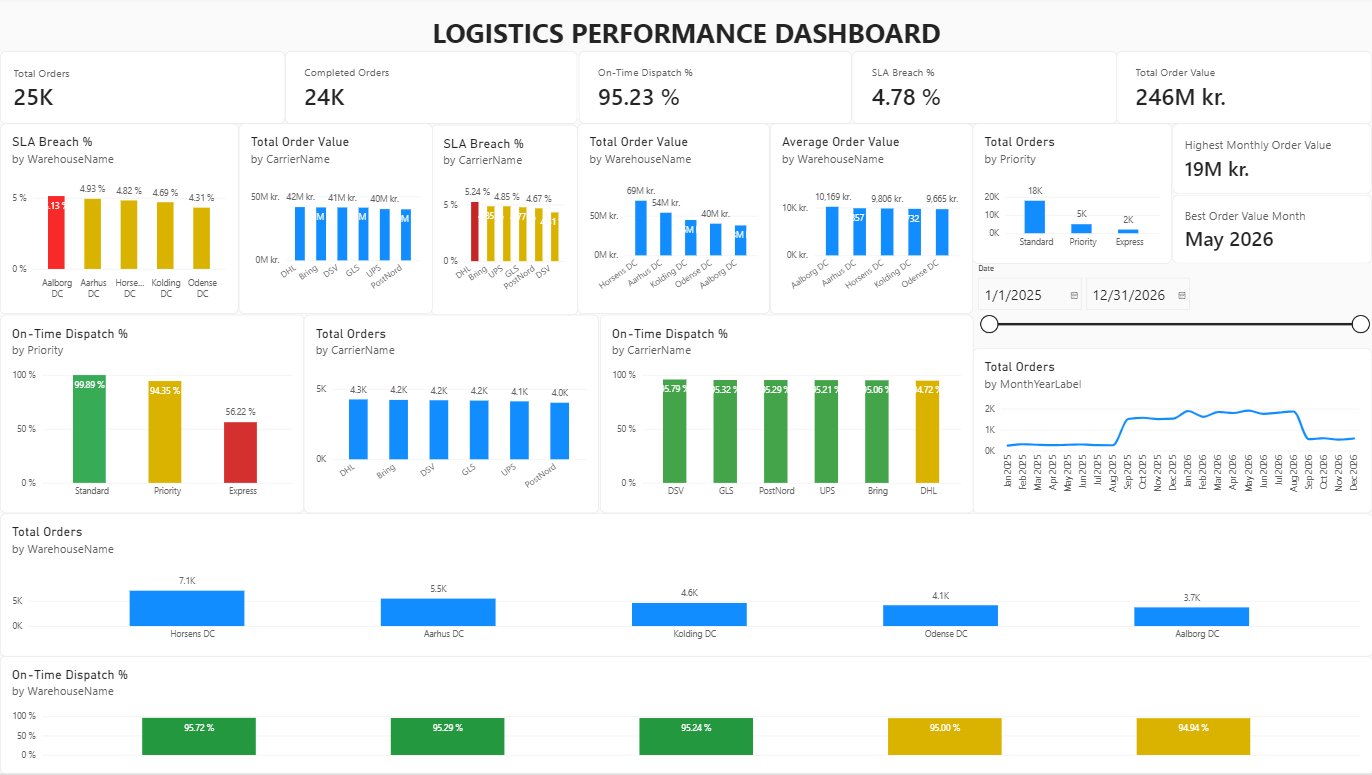

The page's visual inventory and layout, read from the dashboard file:
{"tool":"powerbi","page":{"name":"Overview","canvas":[1920,1080],"ordinal":0},"visuals":[{"type":"cardVisual","fields":{"Data":["All Measures.Total Orders"]},"box":[0,70,399.3,102.9],"z":0},{"type":"cardVisual","fields":{"Data":["All Measures.Total Order Value"]},"box":[1562.3,70,358.1,102.9],"z":1000},{"type":"cardVisual","fields":{"Data":["All Measures.Completed Orders"]},"box":[399.3,70,409.6,102.9],"z":2000},{"type":"cardVisual","fields":{"Data":["All Measures.SLA Breach %"]},"box":[1191.8,70,370.5,102.9],"z":3000},{"type":"cardVisual","fields":{"Data":["All Measures.On-Time Dispatch %"]},"box":[808.9,70,382.8,102.9],"z":4000},{"type":"textbox","box":[0,18.5,1920.4,51.5],"z":5000},{"type":"lineChart","fields":{"Category":["DimDate_New.MonthYearLabel"],"Y":["All Measures.Total Orders"]},"box":[1361.3,486,559.1,230.1],"z":6000},{"type":"slicer","fields":{"Values":["DimDate_New.Date"]},"box":[1361.3,367.7,559.1,118.3],"z":7000},{"type":"clusteredColumnChart","fields":{"Category":["DimWarehouse.WarehouseName"],"Y":["All Measures.Total Orders"]},"box":[0,716.3,1920.4,199.7],"z":8000},{"type":"clusteredColumnChart","fields":{"Category":["DimWarehouse.WarehouseName"],"Y":["All Measures.On-Time Dispatch %"]},"box":[0,916,1920.4,164.7],"z":9000},{"type":"clusteredColumnChart","fields":{"Category":["FactOrders.Priority"],"Y":["All Measures.Total Orders"]},"box":[1361.3,172,279.6,195.7],"z":10000},{"type":"clusteredColumnChart","fields":{"Category":["FactOrders.Priority"],"Y":["All Measures.On-Time Dispatch %"]},"box":[0,438.7,425.8,277.4],"z":11000},{"type":"clusteredColumnChart","fields":{"Category":["DimCarrier.CarrierName"],"Y":["All Measures.Total Orders"]},"box":[425.8,438.7,412.9,277.4],"z":12000},{"type":"clusteredColumnChart","fields":{"Category":["DimCarrier.CarrierName"],"Y":["All Measures.On-Time Dispatch %"]},"box":[838.7,438.7,522.6,277.4],"z":13000},{"type":"clusteredColumnChart","fields":{"Category":["DimWarehouse.WarehouseName"],"Y":["All Measures.SLA Breach %"]},"box":[0,172,333.3,266.7],"z":14000},{"type":"clusteredColumnChart","fields":{"Category":["DimCarrier.CarrierName"],"Y":["All Measures.SLA Breach %"]},"box":[604,173,205,266],"z":15000},{"type":"clusteredColumnChart","fields":{"Category":["DimWarehouse.WarehouseName"],"Y":["All Measures.Total Order Value"]},"box":[808.6,172,268.8,266.7],"z":16000},{"type":"clusteredColumnChart","fields":{"Category":["DimWarehouse.WarehouseName"],"Y":["All Measures.Average Order Value"]},"box":[1077.4,172,283.9,266.7],"z":17000},{"type":"clusteredColumnChart","fields":{"Category":["DimCarrier.CarrierName"],"Y":["All Measures.Total Order Value"]},"box":[333.3,172,271,266.7],"z":18000},{"type":"cardVisual","fields":{"Data":["All Measures.Highest Monthly Order Value"]},"box":[1640.9,172,279.6,98.9],"z":19000},{"type":"cardVisual","fields":{"Data":["All Measures.Best Order Value Month"]},"box":[1640.9,271,279.6,96.8],"z":20000}]}

Visuals, with their boxes in screenshot pixels (x1, y1, x2, y2), scaled from the page's 1920x1080 canvas onto the 1372x775 screenshot:
cardVisual - All Measures.Total Orders: detection(0, 50, 285, 124)
cardVisual - All Measures.Total Order Value: detection(1116, 50, 1371, 124)
cardVisual - All Measures.Completed Orders: detection(285, 50, 578, 124)
cardVisual - All Measures.SLA Breach %: detection(852, 50, 1116, 124)
cardVisual - All Measures.On-Time Dispatch %: detection(578, 50, 852, 124)
textbox: detection(0, 13, 1371, 50)
lineChart - DimDate_New.MonthYearLabel x All Measures.Total Orders: detection(973, 349, 1371, 514)
slicer - DimDate_New.Date: detection(973, 264, 1371, 349)
clusteredColumnChart - DimWarehouse.WarehouseName x All Measures.Total Orders: detection(0, 514, 1371, 657)
clusteredColumnChart - DimWarehouse.WarehouseName x All Measures.On-Time Dispatch %: detection(0, 657, 1371, 774)
clusteredColumnChart - FactOrders.Priority x All Measures.Total Orders: detection(973, 123, 1173, 264)
clusteredColumnChart - FactOrders.Priority x All Measures.On-Time Dispatch %: detection(0, 315, 304, 514)
clusteredColumnChart - DimCarrier.CarrierName x All Measures.Total Orders: detection(304, 315, 599, 514)
clusteredColumnChart - DimCarrier.CarrierName x All Measures.On-Time Dispatch %: detection(599, 315, 973, 514)
clusteredColumnChart - DimWarehouse.WarehouseName x All Measures.SLA Breach %: detection(0, 123, 238, 315)
clusteredColumnChart - DimCarrier.CarrierName x All Measures.SLA Breach %: detection(432, 124, 578, 315)
clusteredColumnChart - DimWarehouse.WarehouseName x All Measures.Total Order Value: detection(578, 123, 770, 315)
clusteredColumnChart - DimWarehouse.WarehouseName x All Measures.Average Order Value: detection(770, 123, 973, 315)
clusteredColumnChart - DimCarrier.CarrierName x All Measures.Total Order Value: detection(238, 123, 432, 315)
cardVisual - All Measures.Highest Monthly Order Value: detection(1173, 123, 1371, 194)
cardVisual - All Measures.Best Order Value Month: detection(1173, 194, 1371, 264)
